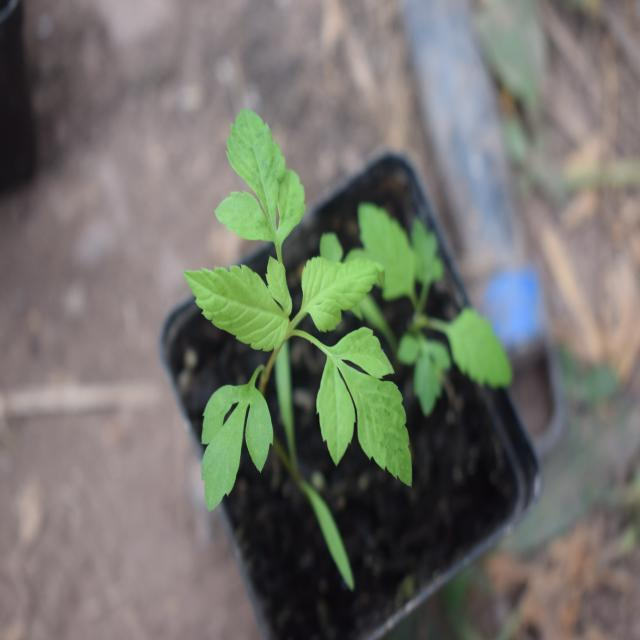Bidens pilosa: (170, 106, 426, 519)
